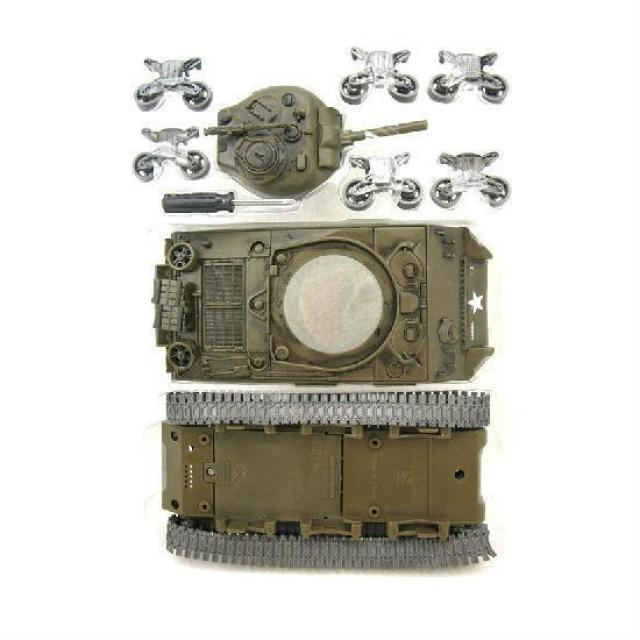Tanks: (155, 397, 500, 571), (150, 221, 500, 374)
